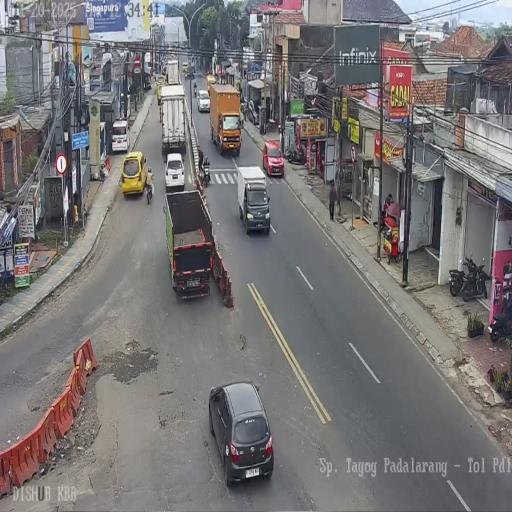3: (164, 187, 215, 301), (208, 82, 241, 156), (237, 165, 270, 234), (159, 84, 186, 160), (166, 58, 180, 86)
car: (208, 380, 274, 487), (121, 150, 148, 197), (164, 152, 185, 192), (262, 140, 284, 178), (112, 117, 130, 154), (196, 89, 210, 112), (248, 100, 259, 124), (205, 74, 216, 97), (156, 78, 164, 106), (185, 68, 195, 80), (182, 61, 188, 73)
truck: (488, 287, 512, 342), (460, 254, 488, 301), (448, 268, 466, 296), (284, 144, 306, 166), (202, 160, 211, 186)
